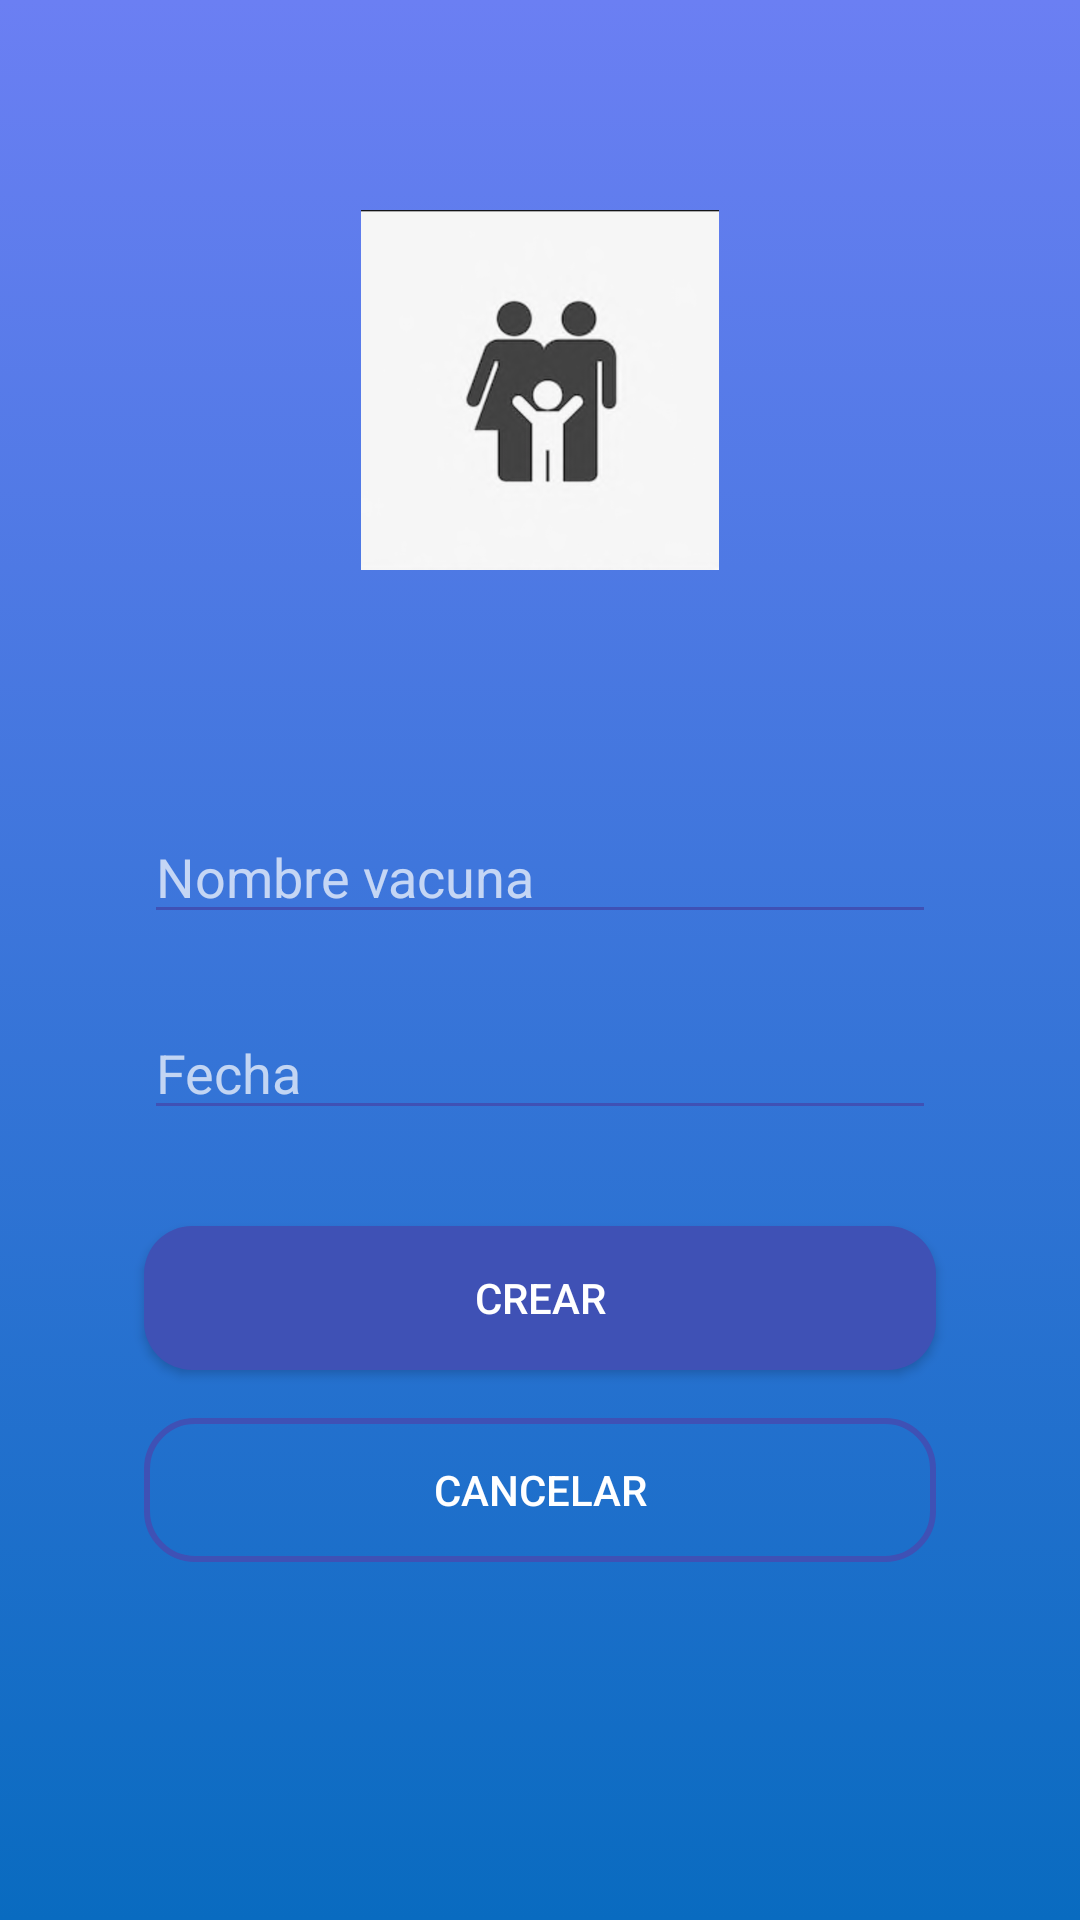

Locate icon controls on the screen. Image size 1080px×1920px, boxes as (x1, y1, x2, y2).
family: (361, 210, 719, 570)
